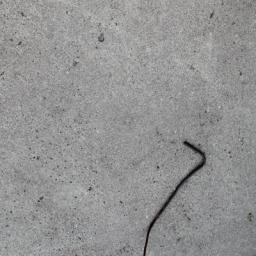FOD: (143, 138, 209, 256)
